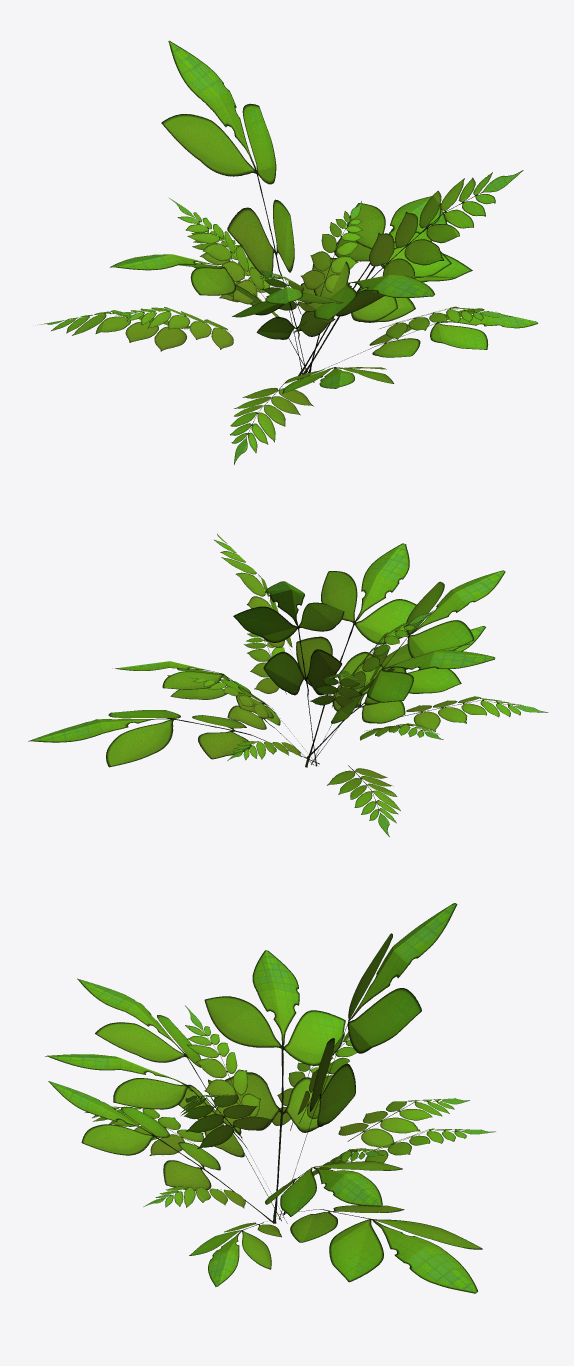
Rendered from plantGrass.fbx.
The picture shows the model from 3 angles, top to bottom: view 1: azimuth 30°, elevation 25°; view 2: azimuth 150°, elevation 25°; view 3: azimuth 270°, elevation 25°; orthographic projection. The views are drawn at different scales.
Parts seen in each view (by area): view 1: polySurface10; view 2: polySurface10; view 3: polySurface10.
Boxes of the visible parts, <box> form: polySurface10: <box>37,40,538,464</box>; polySurface10: <box>28,534,548,836</box>; polySurface10: <box>45,903,495,1293</box>.
Bounding box in the file's own units: 4.85 × 2.72 × 4.39.
1 material, 1 textured.
